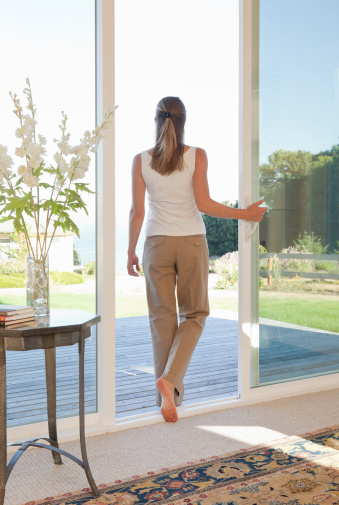em pe: (119, 87, 263, 424)
